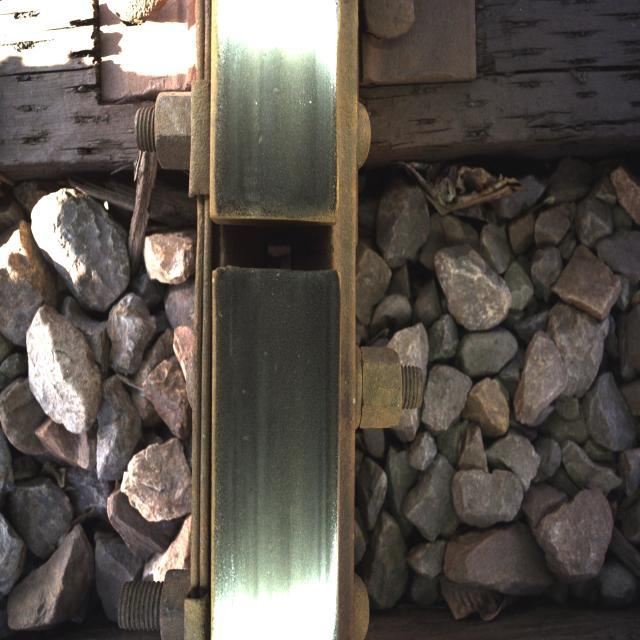spalling: (190, 182, 361, 308)
